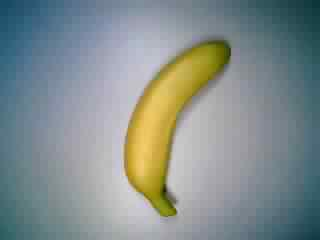banana: (123, 38, 234, 218)
